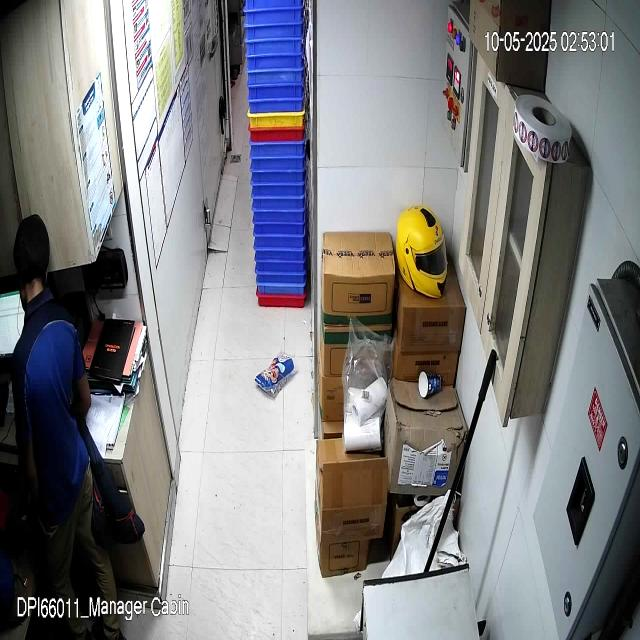helmet: (397, 205, 448, 297)
